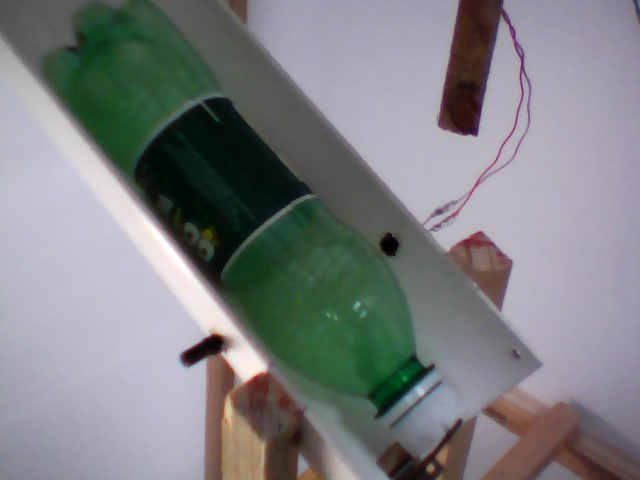plastico: (40, 4, 484, 463)
